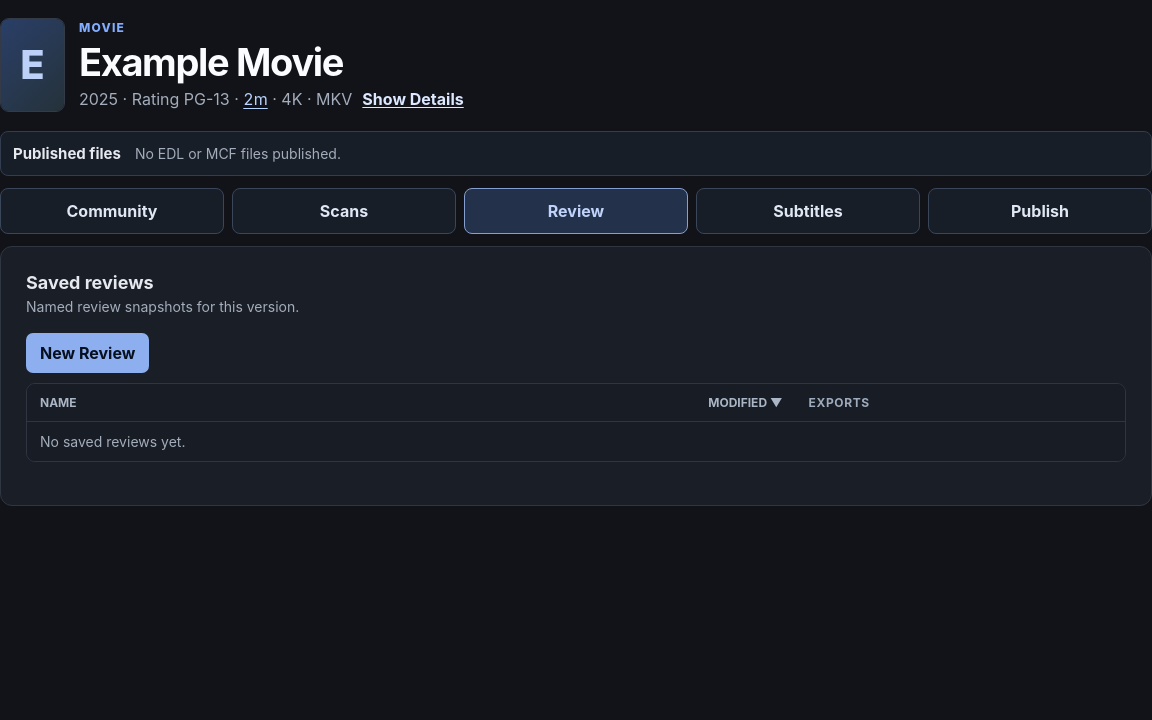
uses item metadata and can search when the catalog withholds all paths
Later steps or results of the test are not shown.
Click the tab "Scans" at {"x": 344, "y": 211}, box [232,188,456,234]
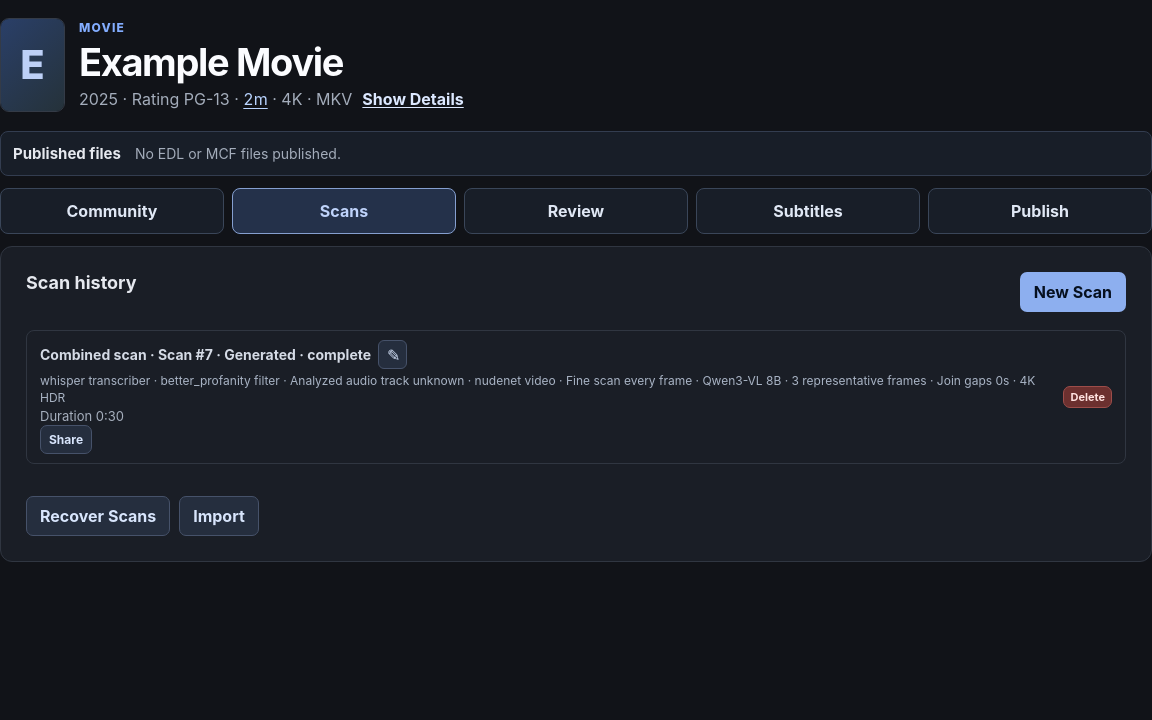
Click the button "Recover Scans" at {"x": 98, "y": 516}, box [26,496,170,536]
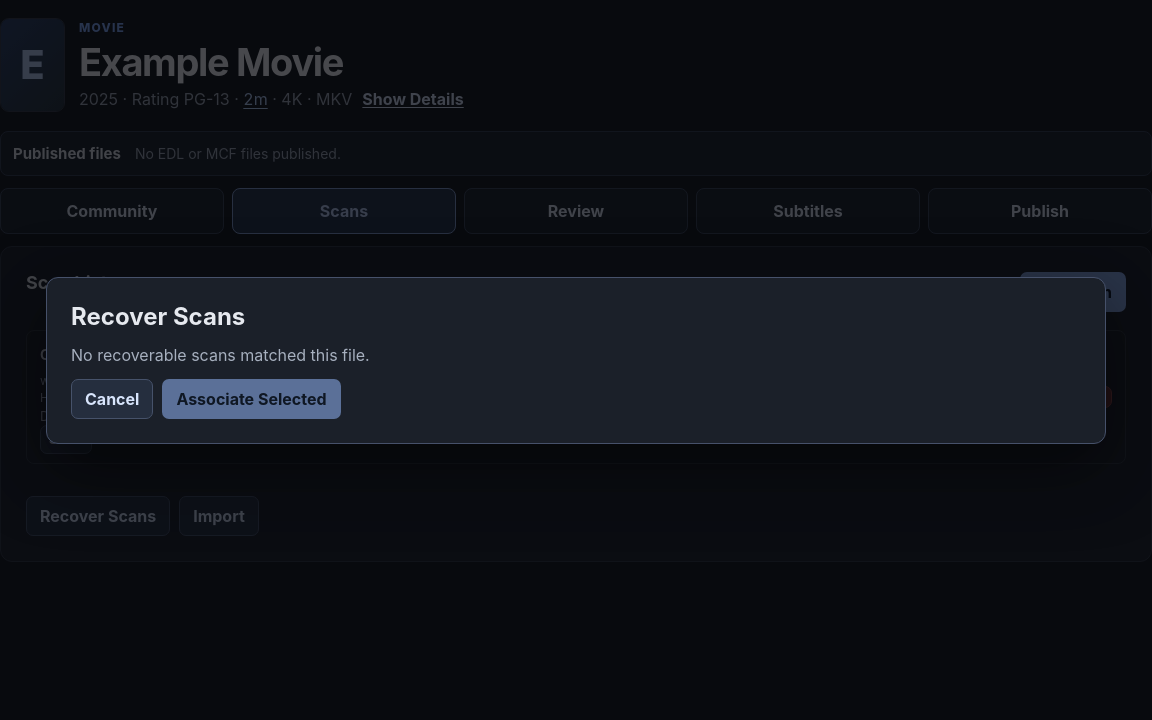
Expected: the text "No recoverable scans matched this file." is shown, [71,344,370,364]
Expected: the button "Associate Selected" is disabled, [162,378,341,418]
